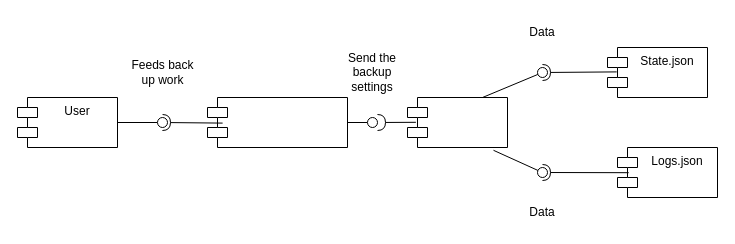
The diagram is 735 pixels wide and 244 high, and some of its shapes have lost their labels. The shapes that lost their labels are listed below. From the top down, each one's centre as x and y in pixels, then its label:
At pixel 277 122: "BackupConfig.json".
At pixel 457 122: "EasySave".
